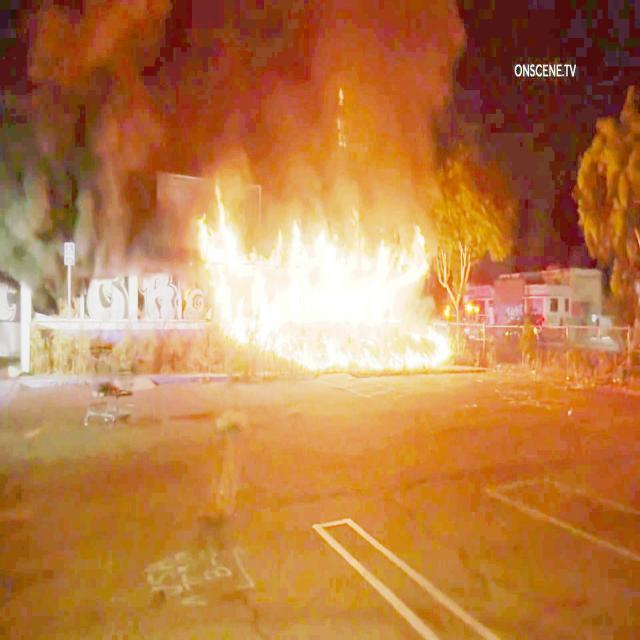Fire: (201, 192, 458, 374)
Smoke: (0, 2, 495, 214)
